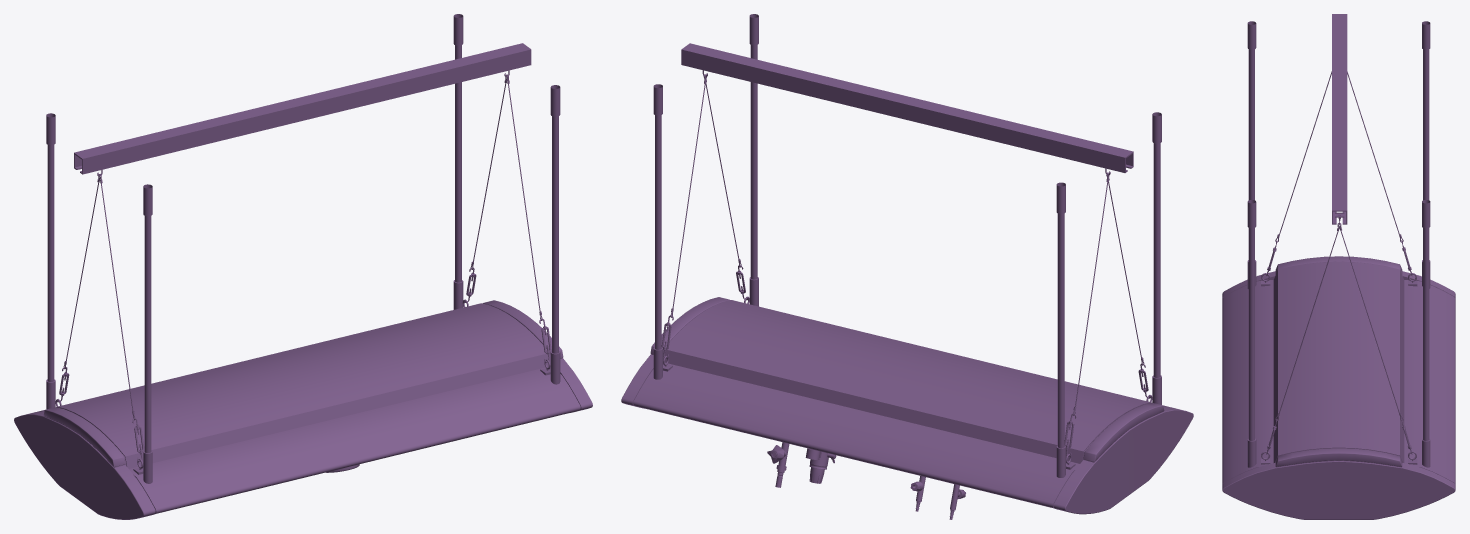
Rendered from SM_Ceiling_Light_LOD0.FBX.
The picture shows the model from 3 angles, left to right: view 1: azimuth 30°, elevation 25°; view 2: azimuth 150°, elevation 25°; view 3: azimuth 270°, elevation 25°; orthographic projection. The views are drawn at different scales.
Visible parts, largest first — view 1: Ceiling_Light; view 2: Ceiling_Light; view 3: Ceiling_Light.
Part boxes in pixels (x1,y1,x2,y2): Ceiling_Light: (14,14,592,519); Ceiling_Light: (621,14,1193,519); Ceiling_Light: (1222,14,1455,519).
Bounding box in the file's own units: 1.5 × 1.22 × 0.7516.
